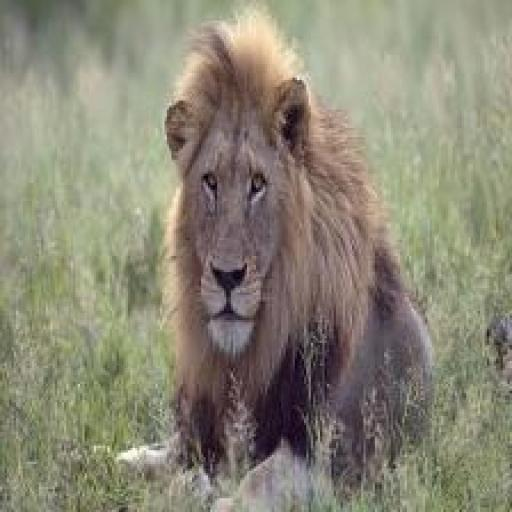lion: (158, 30, 327, 376)
